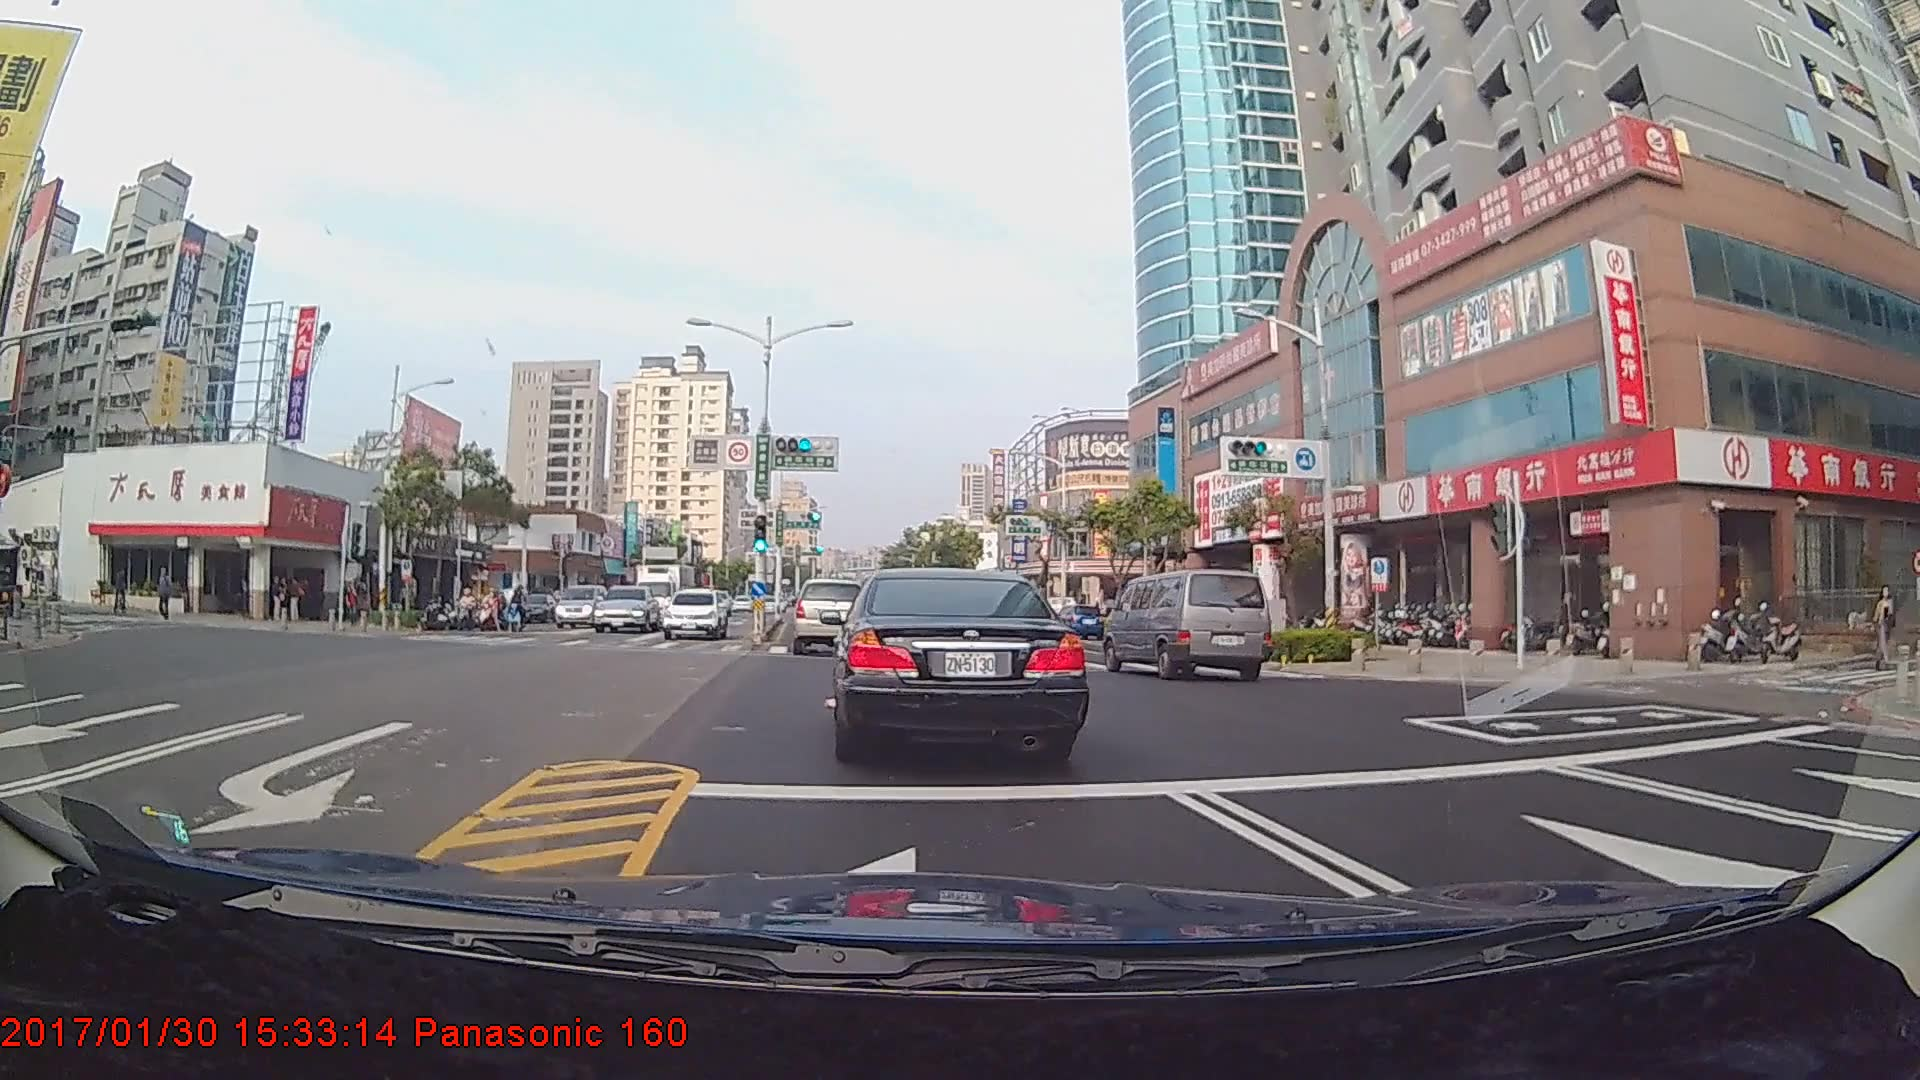pedestrian: (1872, 587, 1898, 663), (152, 568, 173, 620), (272, 575, 292, 625), (287, 577, 307, 625)
vehicle: (830, 565, 1081, 759), (1105, 567, 1269, 681), (794, 578, 871, 656), (637, 557, 702, 630), (591, 584, 660, 634), (663, 587, 728, 640), (556, 582, 610, 627), (1048, 602, 1099, 642)
